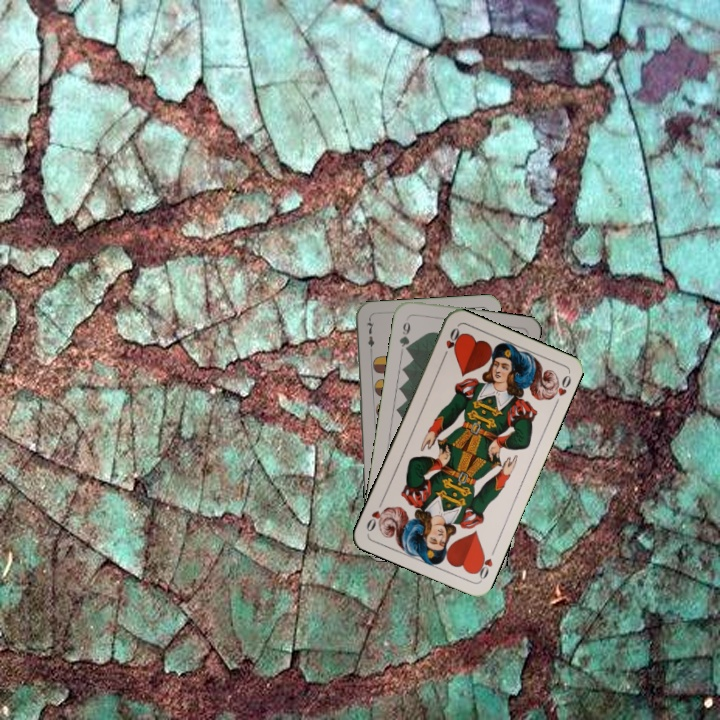E7: (362, 316, 377, 357)
G9: (395, 314, 413, 355)
HO: (471, 544, 498, 583), (439, 323, 463, 361)
